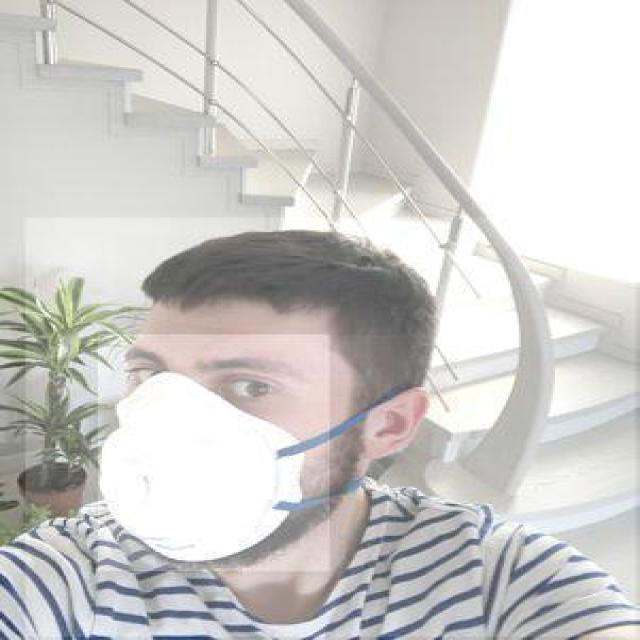face_mask: (98, 334, 332, 573)
head_nohelmet: (115, 236, 436, 334)
person: (25, 217, 638, 638)
